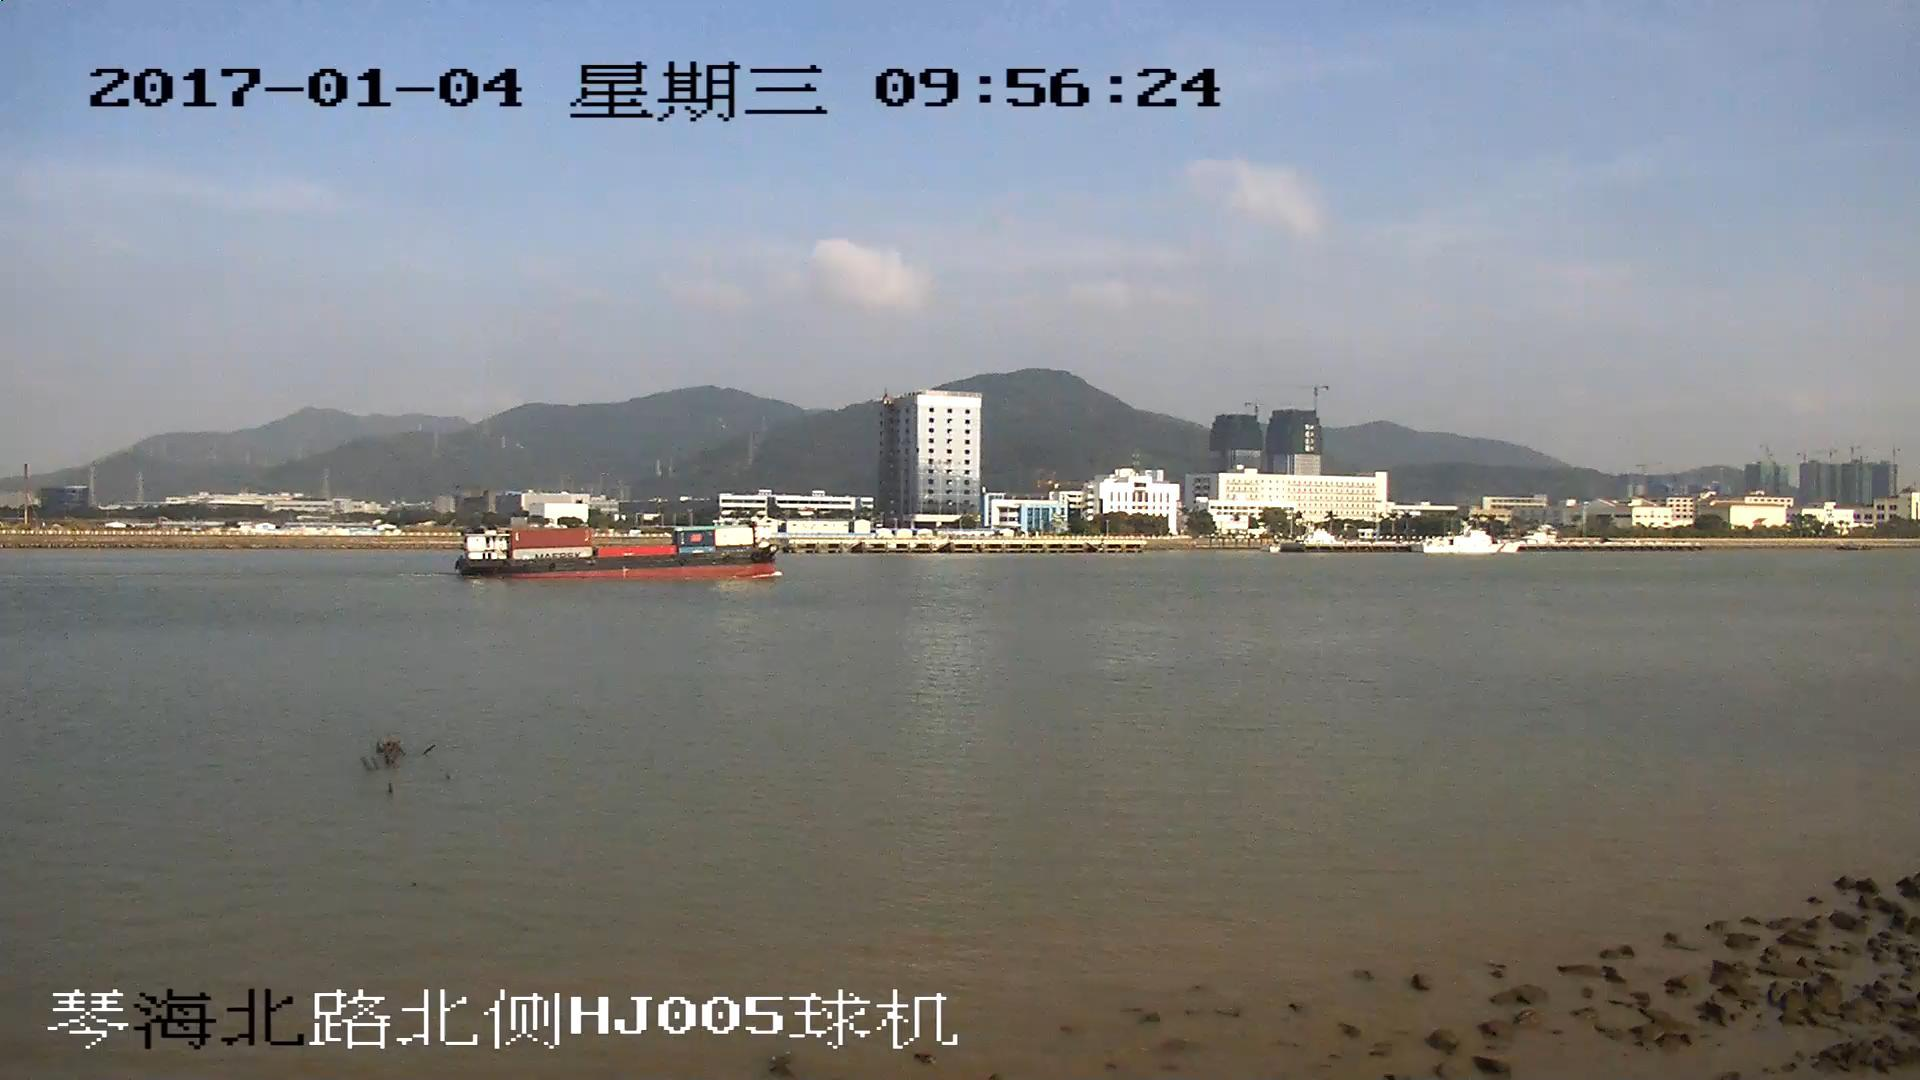Ship: (458, 529, 775, 583)
